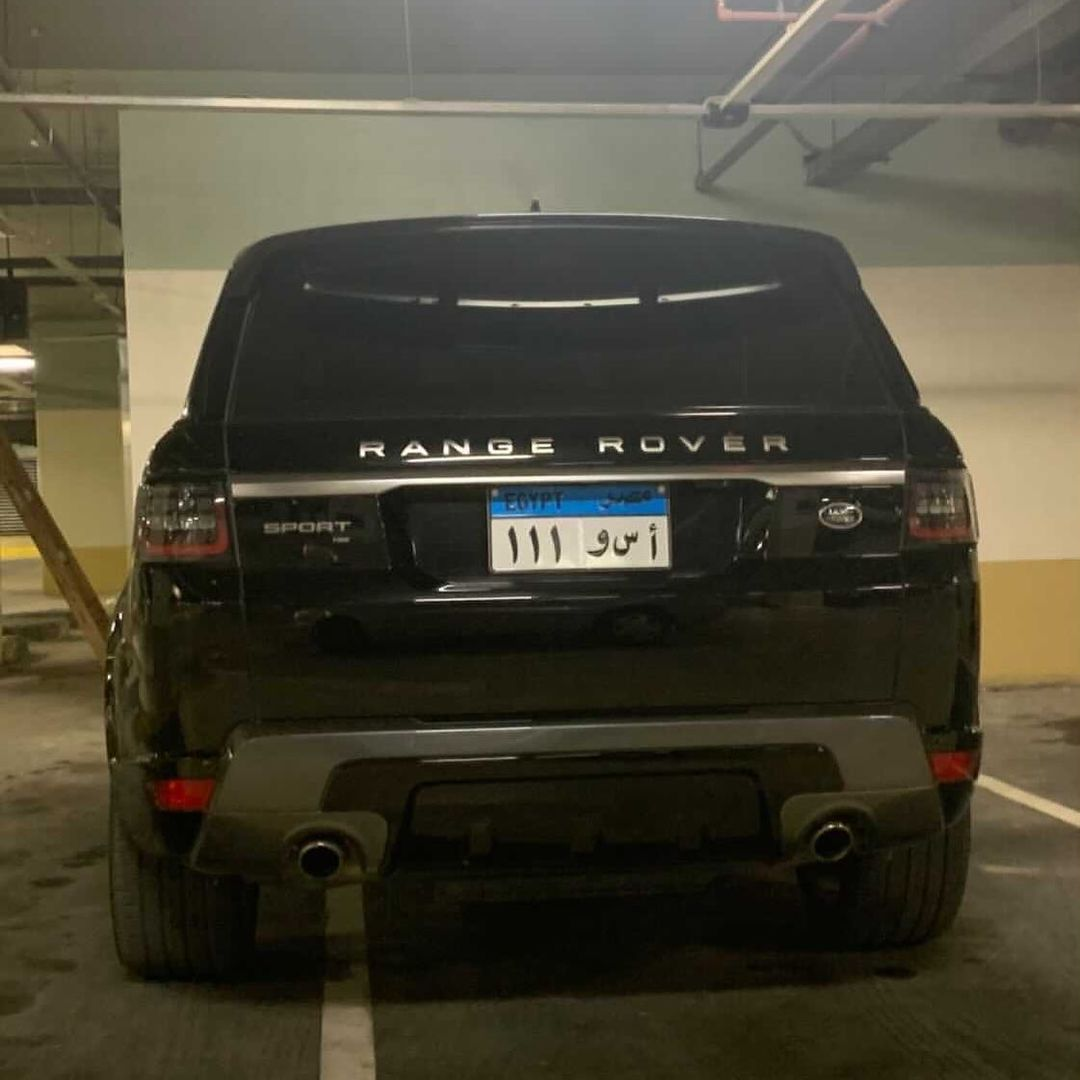carpl: (483, 479, 667, 568)
